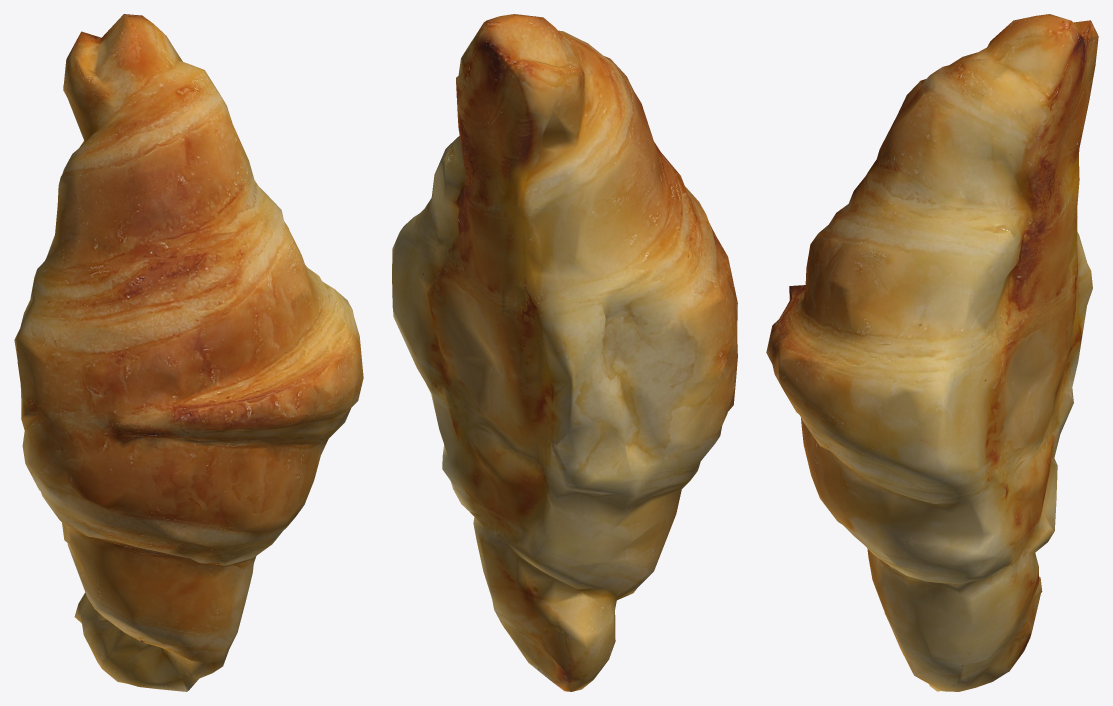
File: banhsungbo_FINAL.obj
The picture shows the model from 3 angles, left to right: view 1: azimuth 30°, elevation 25°; view 2: azimuth 150°, elevation 25°; view 3: azimuth 270°, elevation 25°; orthographic projection. The views are drawn at different scales.
Bounding box in the file's own units: 1.09 × 2.1 × 0.9375.
Materials: 1 (1 with a texture image).
